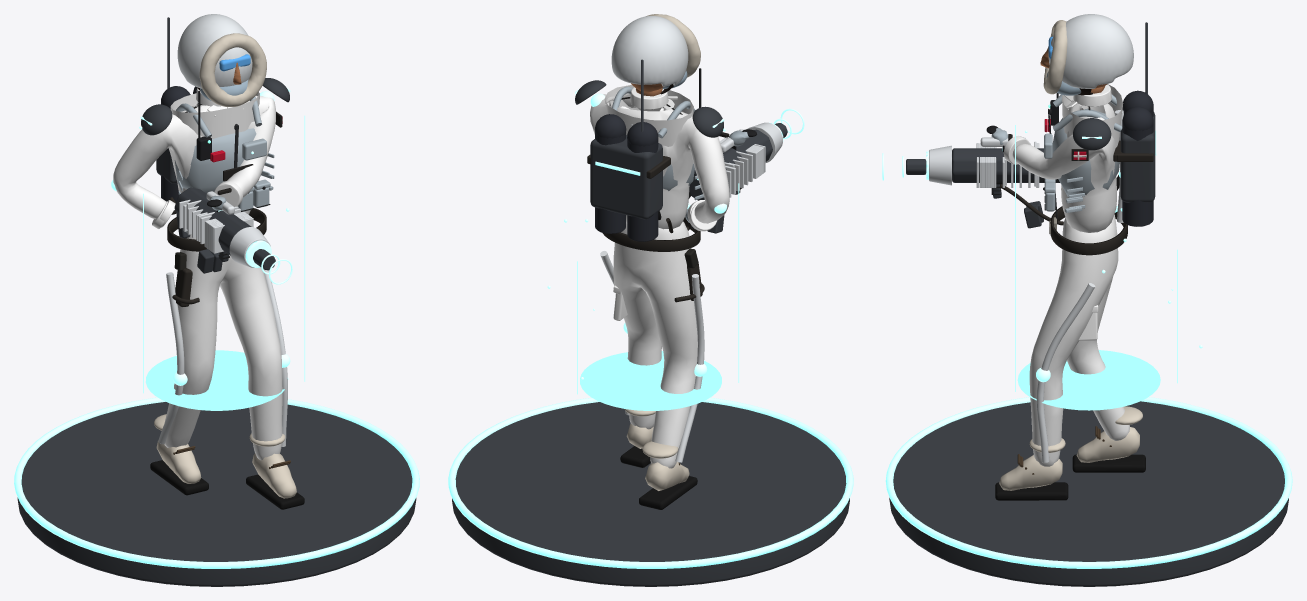
File: straale_arktis.glb
3 renders of one model, left to right at view 1: azimuth 30°, elevation 25°; view 2: azimuth 150°, elevation 25°; view 3: azimuth 270°, elevation 25°, orthographic.
Parts seen in each view (by area): view 1: fod_net, menneske_net, op1_net, hoved_net, op4.002_net, vaaben_net, op4_net, op3_net, op4.001_net; view 2: fod_net, menneske_net, op3_net, op4.002_net, hoved_net, op1_net, vaaben_net, op4_net, ned1.001_net; view 3: fod_net, menneske_net, hoved_net, op4.002_net, op1_net, op3_net, vaaben_net, op4_net.
Part boxes in pixels (left/top/right/bottom): fod_net: left=14, top=397, right=419, bottom=586; menneske_net: left=113, top=86, right=304, bottom=509; op1_net: left=160, top=91, right=274, bottom=306; hoved_net: left=177, top=14, right=266, bottom=106; op4.002_net: left=139, top=115, right=305, bottom=410; vaaben_net: left=174, top=187, right=271, bottom=267; op4_net: left=111, top=91, right=290, bottom=446; op3_net: left=140, top=17, right=290, bottom=183; op4.001_net: left=197, top=218, right=292, bottom=284; fod_net: left=448, top=397, right=853, bottom=586; menneske_net: left=590, top=85, right=756, bottom=509; op3_net: left=575, top=59, right=724, bottom=219; op4.002_net: left=547, top=128, right=739, bottom=410; hoved_net: left=611, top=14, right=700, bottom=94; op1_net: left=587, top=68, right=729, bottom=302; vaaben_net: left=658, top=122, right=783, bottom=229; op4_net: left=590, top=93, right=726, bottom=462; ned1.001_net: left=651, top=133, right=726, bottom=231; fod_net: left=885, top=397, right=1292, bottom=586; menneske_net: left=986, top=84, right=1153, bottom=500; hoved_net: left=1040, top=14, right=1133, bottom=95; op4.002_net: left=1015, top=125, right=1202, bottom=410; op1_net: left=1008, top=93, right=1153, bottom=255; op3_net: left=1066, top=22, right=1156, bottom=203; vaaben_net: left=926, top=137, right=1119, bottom=190; op4_net: left=1036, top=110, right=1123, bottom=462.
Size of the model in its own units: 1.94 by 2.56 by 1.95.
